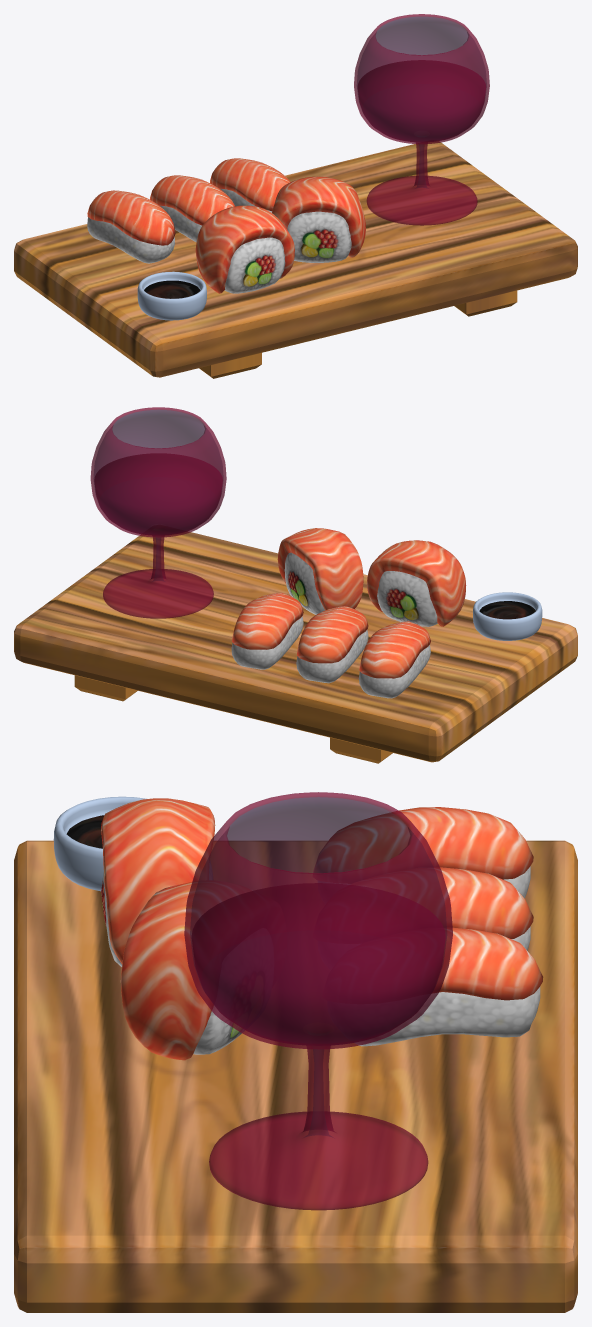
File: obj_salmon_sushi_set_hand_painte_05859b.glb
3 renders of one model, top to bottom at view 1: azimuth 30°, elevation 25°; view 2: azimuth 150°, elevation 25°; view 3: azimuth 270°, elevation 25°, orthographic. The views are drawn at different scales.
Visible parts, largest first — view 1: obj_salmon_sushi_set_hand_painte_05859b; view 2: obj_salmon_sushi_set_hand_painte_05859b; view 3: obj_salmon_sushi_set_hand_painte_05859b.
Part boxes in pixels (left/top/right/bottom): obj_salmon_sushi_set_hand_painte_05859b: left=14, top=14, right=577, bottom=378; obj_salmon_sushi_set_hand_painte_05859b: left=14, top=407, right=577, bottom=763; obj_salmon_sushi_set_hand_painte_05859b: left=14, top=792, right=577, bottom=1312.
Size of the model in its own units: 0.4 by 0.1995 by 0.2313.
5 materials, 1 textured.
